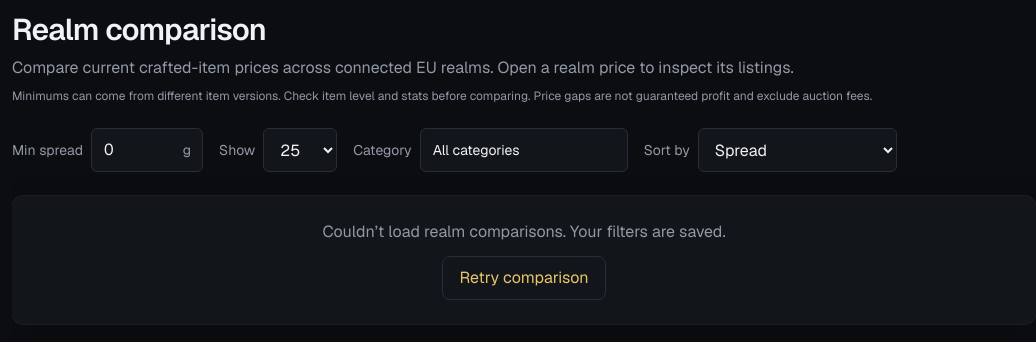
Test: a failed comparison is not reported as no opportunities and retry preserves filters
The width and height of the screenshot is (1036, 342).
Check: the message shows "Couldn’t load realm comparisons", box top-left (322, 221), bottom-right (726, 242)
Replace the text in the number field labelled "Min spread" with "50": (147, 150) top-left (91, 128), bottom-right (203, 172)
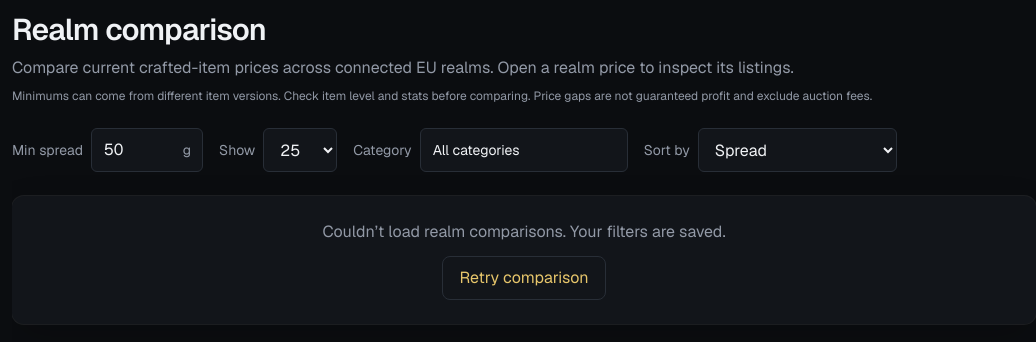
Click the button "Retry comparison": click(524, 278) top-left (442, 256), bottom-right (606, 300)
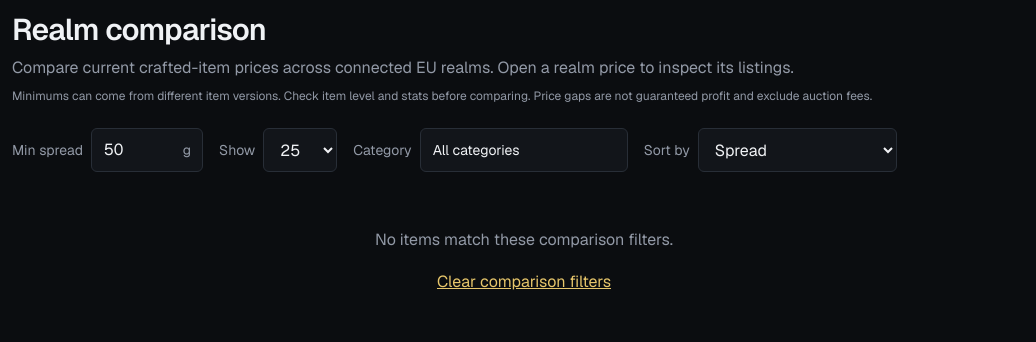
Check: the text "No items match these comparison filters." is shown, box top-left (375, 229), bottom-right (673, 250)
